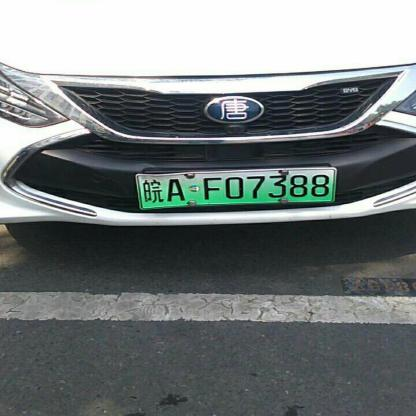lp: (138, 168, 335, 207)
